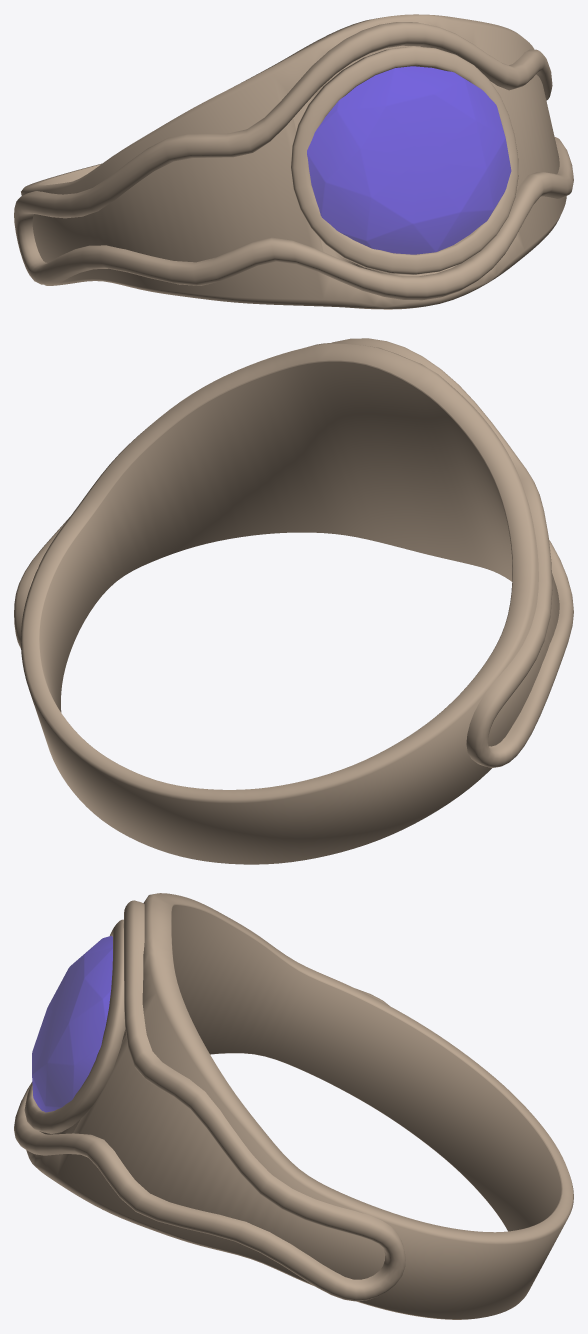
Rendered from ojeh4xji98g.glb.
3 renders of one model, top to bottom at view 1: azimuth 30°, elevation 25°; view 2: azimuth 150°, elevation 25°; view 3: azimuth 270°, elevation 25°, orthographic.
Bounding box in the file's own units: 0.9979 × 0.7224 × 1.02.
